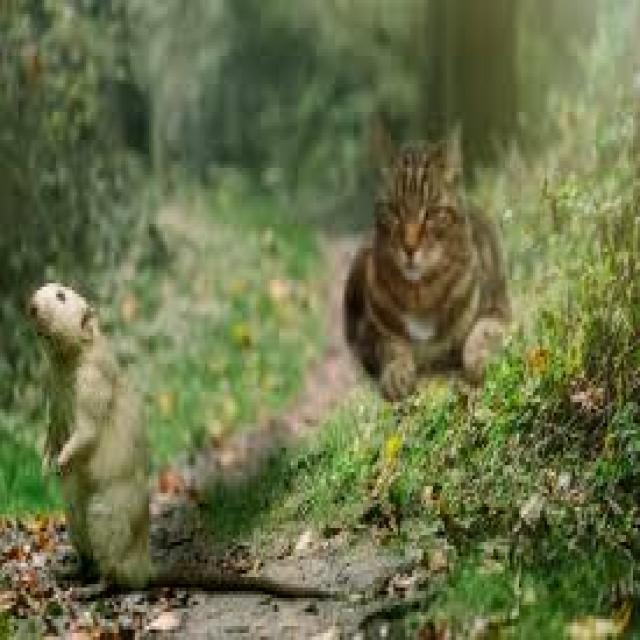rat: (340, 109, 512, 402), (23, 276, 152, 588)
